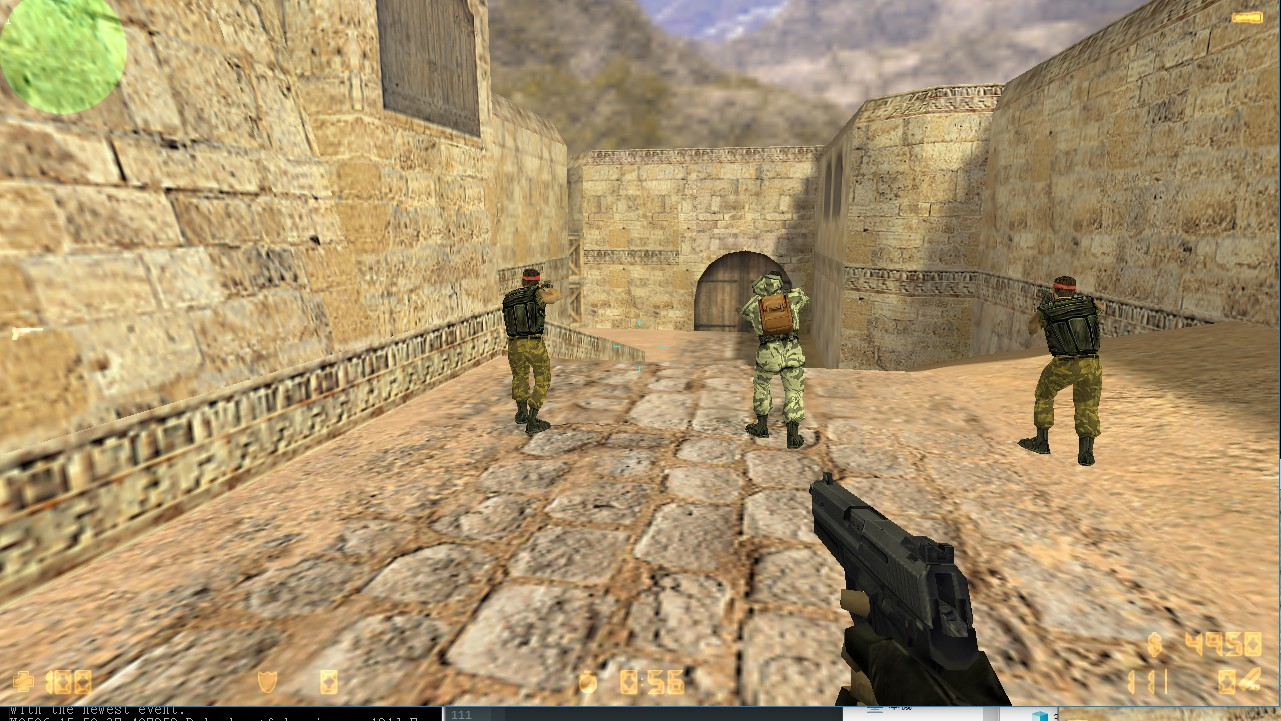person: (1029, 267, 1110, 469), (738, 269, 806, 454), (502, 257, 569, 441)
